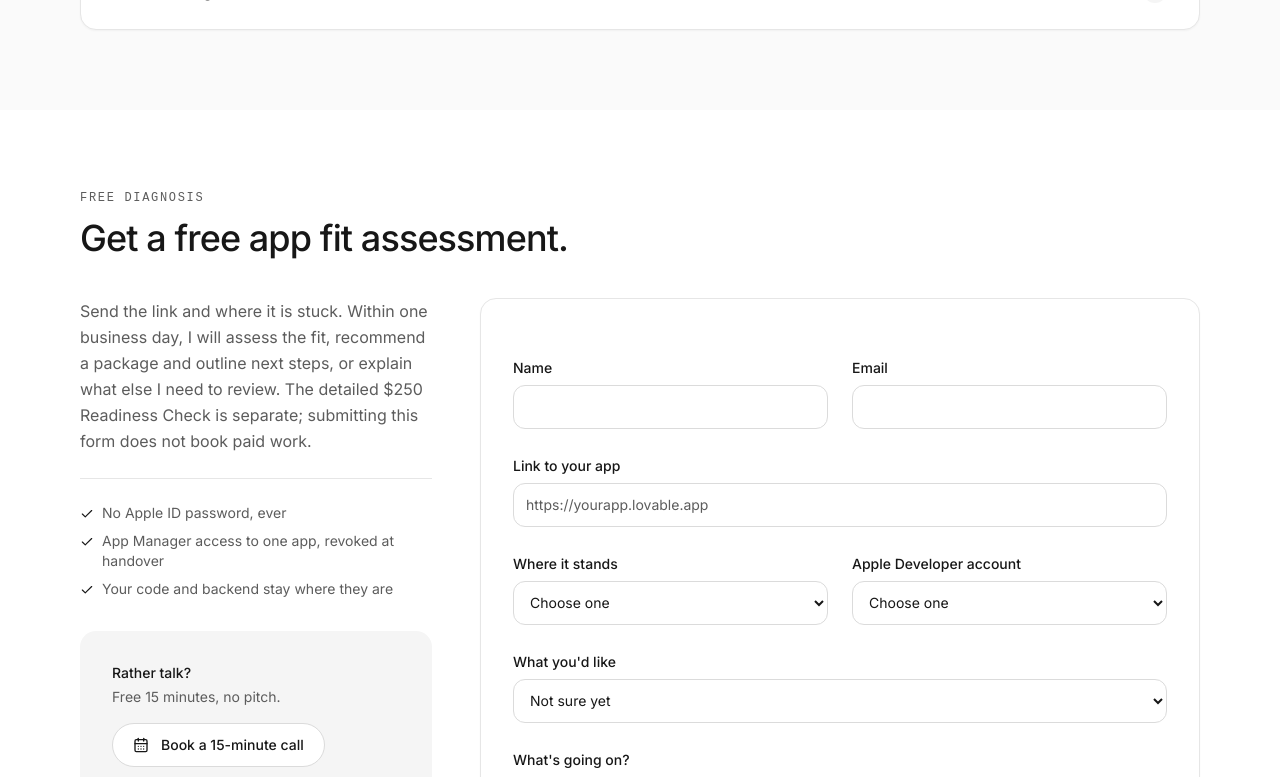
Test case: App Store launch page › intake form › saves the lead through the appstore-lead function and confirms
The width and height of the screenshot is (1280, 777).
(page scrolled)
Step 1. Type "Sam" into the field labelled "Name" → (670, 407), box x1=513 y1=385 x2=828 y2=429
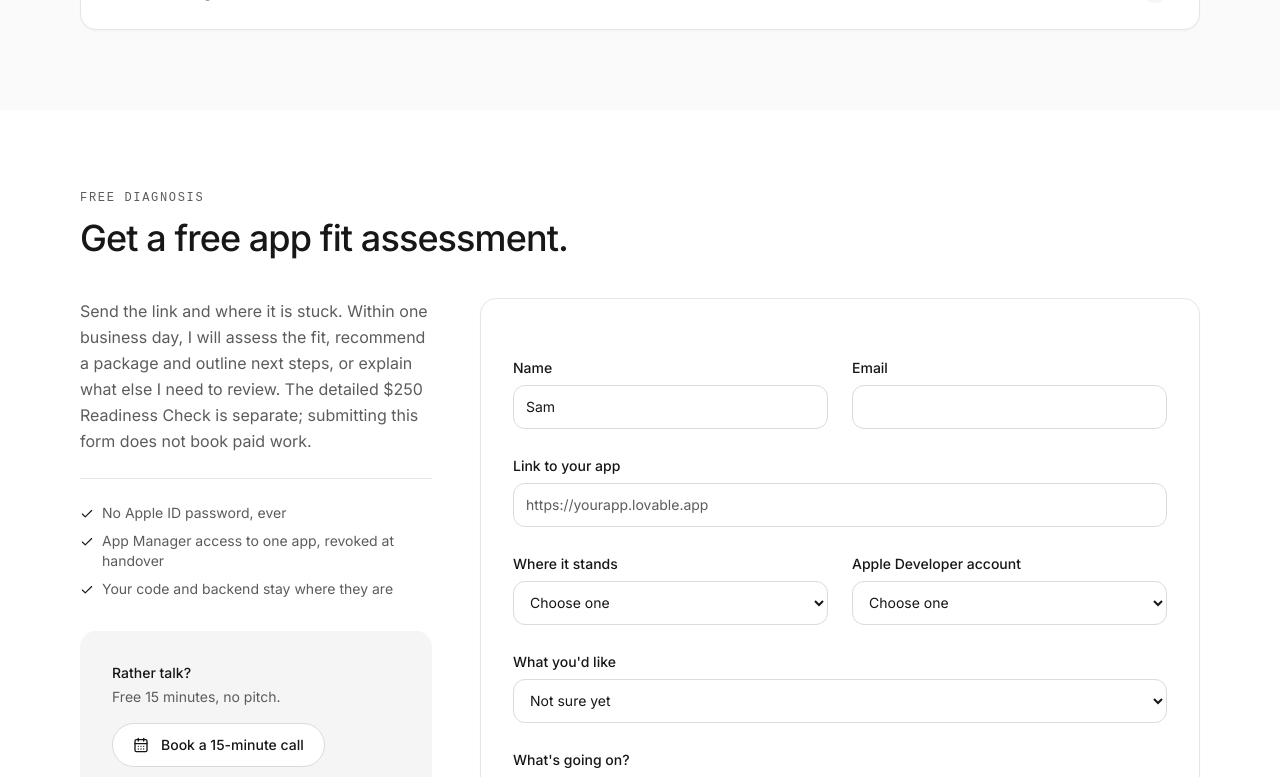
Step 2. Type "sam@example.com" into the field labelled "Email" → (1010, 407), box x1=852 y1=385 x2=1167 y2=429
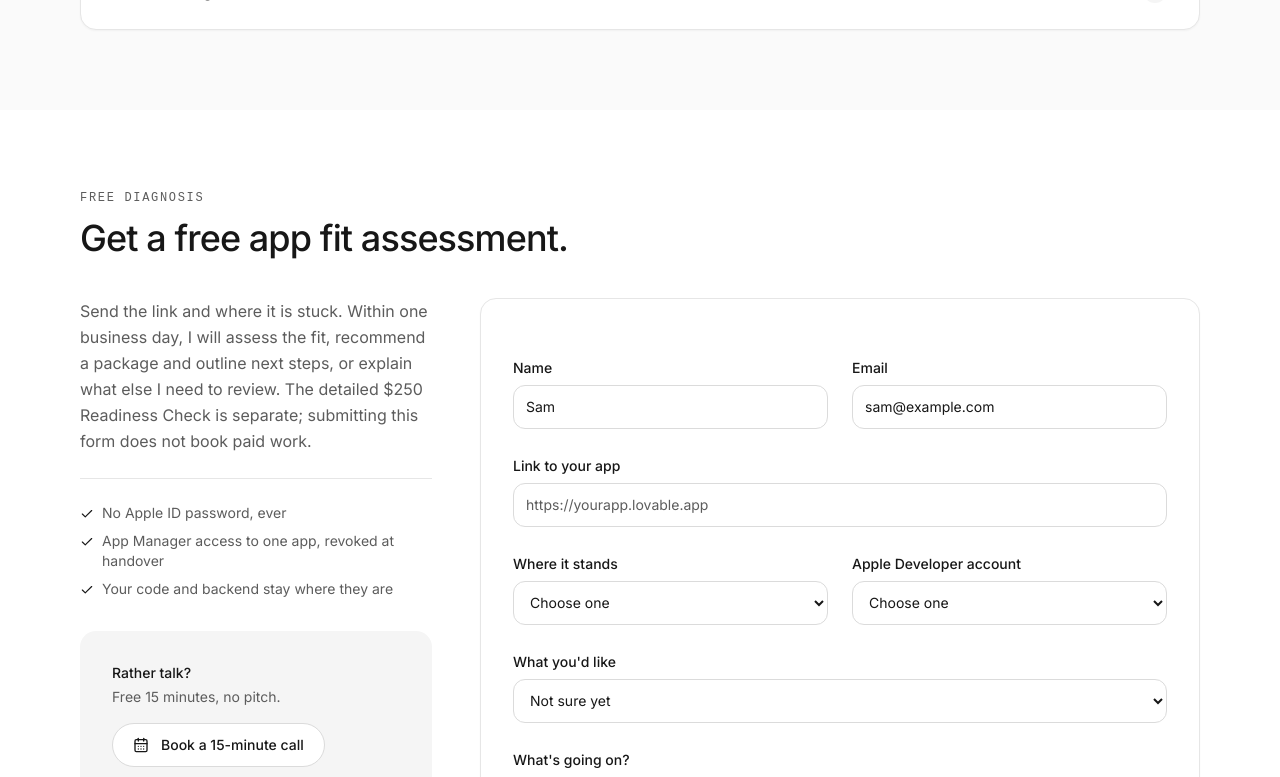
Step 3. Type "https://sam.lovable.app" into the field labelled "Link to your app" → (840, 505), box x1=513 y1=483 x2=1167 y2=527
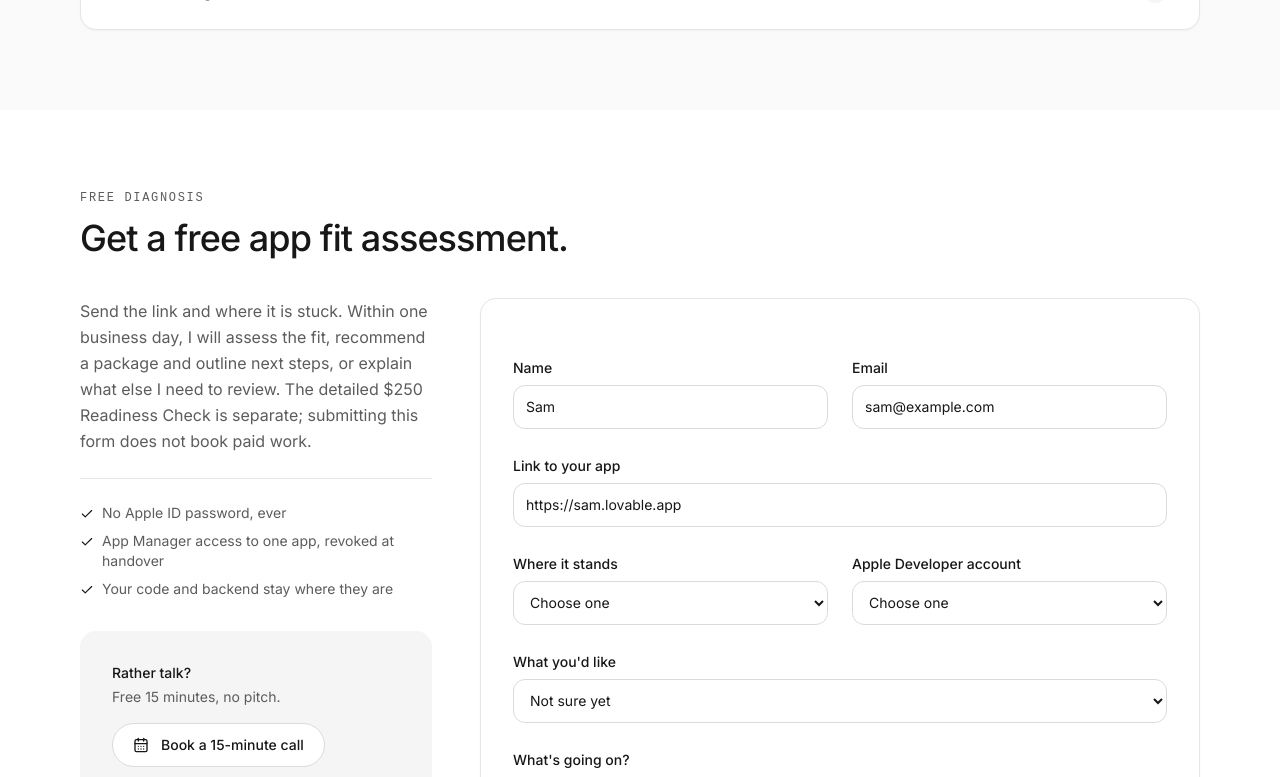
Step 4. Select "Rejected by Apple" in the dropdown labelled "Where it stands" → (670, 603), box x1=513 y1=581 x2=828 y2=625
(page scrolled)
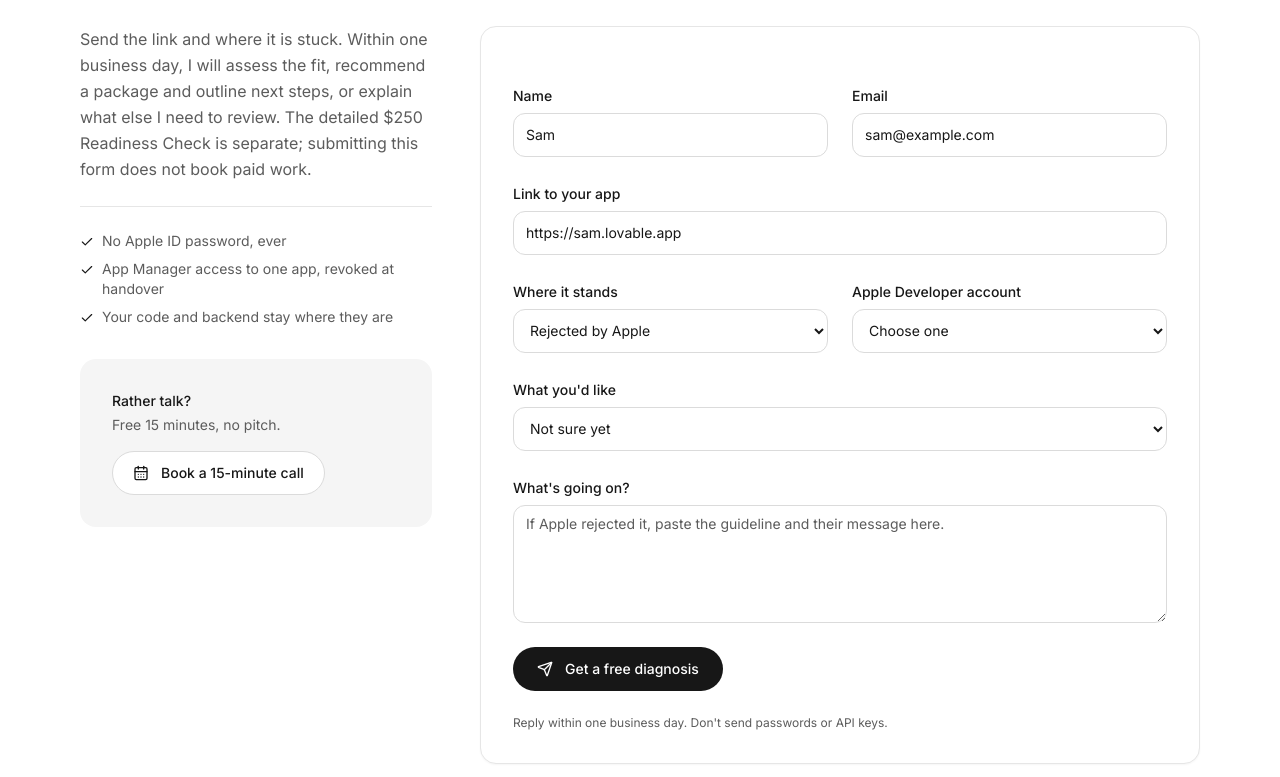
Step 5. Submit the form named "App Store intake", box x1=513 y1=83 x2=1167 y2=731
(page scrolled)
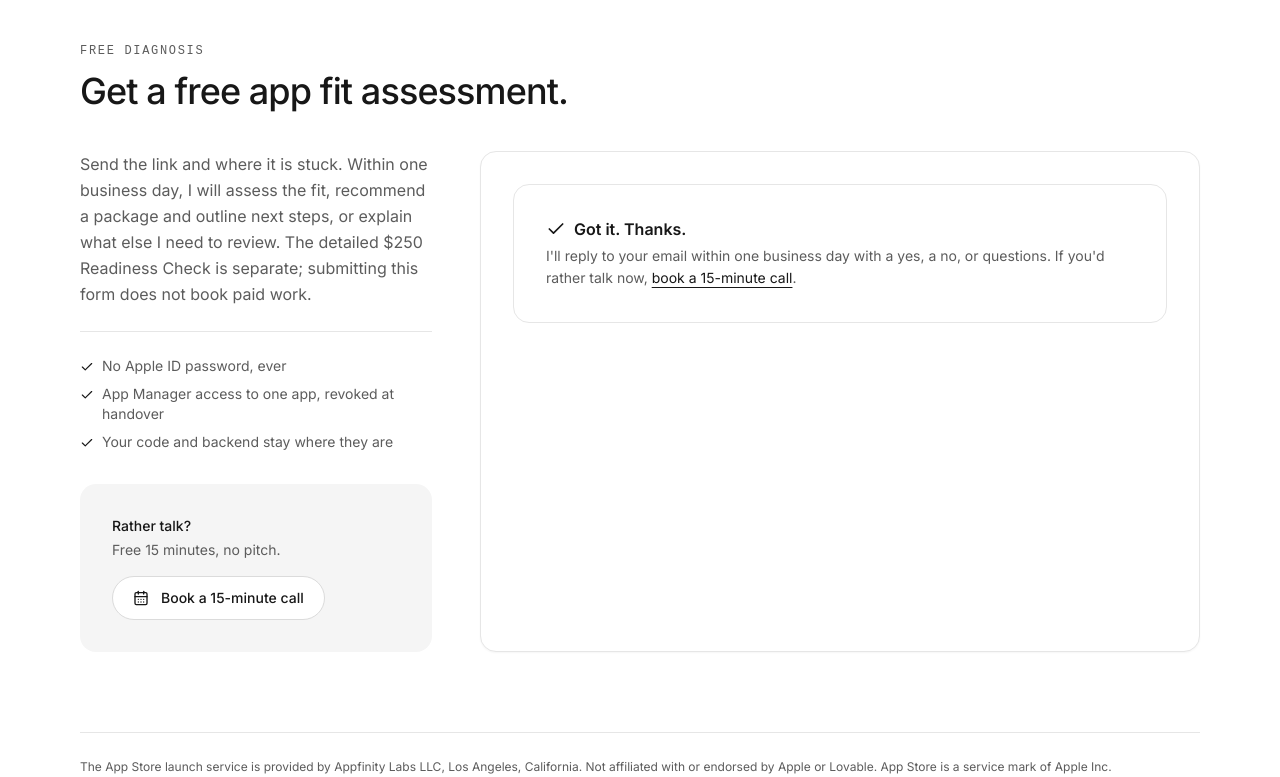
Now the text "Got it. Thanks." is shown, box x1=546 y1=219 x2=686 y2=239
